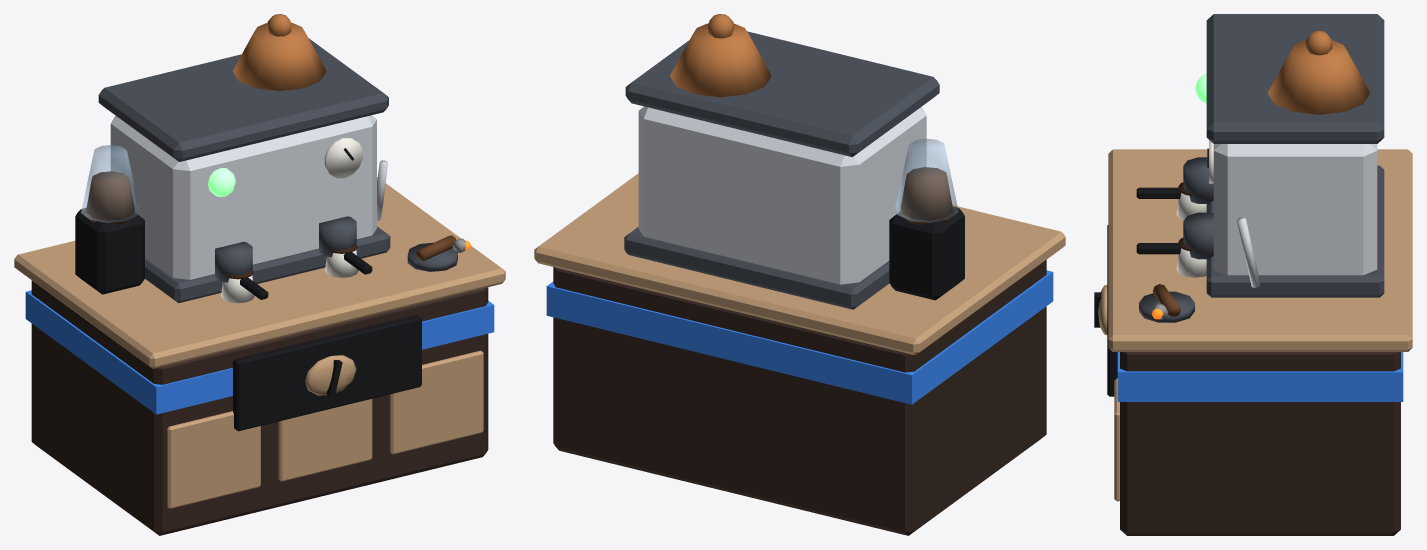
The model's file is paco.glb.
3 views of the same model, side by side, from view 1: azimuth 30°, elevation 25°; view 2: azimuth 150°, elevation 25°; view 3: azimuth 270°, elevation 25° (orthographic). The views are drawn at different scales.
Parts seen in each view (by area): view 1: counter, counter_top, machine, machine_top, sign, stripe, panel_0, panel_2, panel_1, grinder, dome, machine_base (+10 smaller); view 2: counter, machine, counter_top, machine_top, stripe, machine_base, grinder, dome, hopper, beans; view 3: counter, counter_top, machine, machine_top, stripe, dome, machine_base, group_R, group_L, ashtray, steam_wand, sign (+8 smaller).
Boxes of the visible parts, bbox=[...] form: counter: bbox=[31, 280, 488, 535]; counter_top: bbox=[14, 177, 505, 368]; machine: bbox=[110, 115, 376, 279]; machine_top: bbox=[98, 38, 388, 161]; sign: bbox=[233, 314, 421, 431]; stripe: bbox=[25, 290, 494, 414]; panel_0: bbox=[167, 411, 260, 508]; panel_2: bbox=[389, 350, 483, 454]; panel_1: bbox=[278, 399, 372, 481]; grinder: bbox=[75, 208, 144, 294]; dome: bbox=[232, 22, 326, 90]; machine_base: bbox=[145, 226, 390, 303]; counter: bbox=[553, 260, 1046, 535]; machine: bbox=[638, 106, 926, 284]; counter_top: bbox=[534, 173, 1065, 355]; machine_top: bbox=[625, 31, 939, 157]; stripe: bbox=[546, 270, 1053, 404]; machine_base: bbox=[624, 227, 889, 309]; grinder: bbox=[889, 207, 964, 300]; dome: bbox=[670, 23, 771, 97]; hopper: bbox=[895, 138, 958, 222]; beans: bbox=[900, 167, 954, 224]; counter: bbox=[1120, 352, 1400, 535]; counter_top: bbox=[1108, 149, 1412, 351]; machine: bbox=[1213, 144, 1377, 275]; machine_top: bbox=[1206, 14, 1384, 143]; stripe: bbox=[1117, 352, 1403, 401]; dome: bbox=[1267, 40, 1370, 114]; machine_base: bbox=[1206, 165, 1384, 297]; group_R: bbox=[1183, 212, 1213, 259]; group_L: bbox=[1183, 157, 1213, 203]; ashtray: bbox=[1139, 291, 1194, 322]; steam_wand: bbox=[1237, 217, 1260, 287]; sign: bbox=[1107, 225, 1117, 396].
Bounding box in the file's own units: 1.92 × 2.09 × 1.36.
